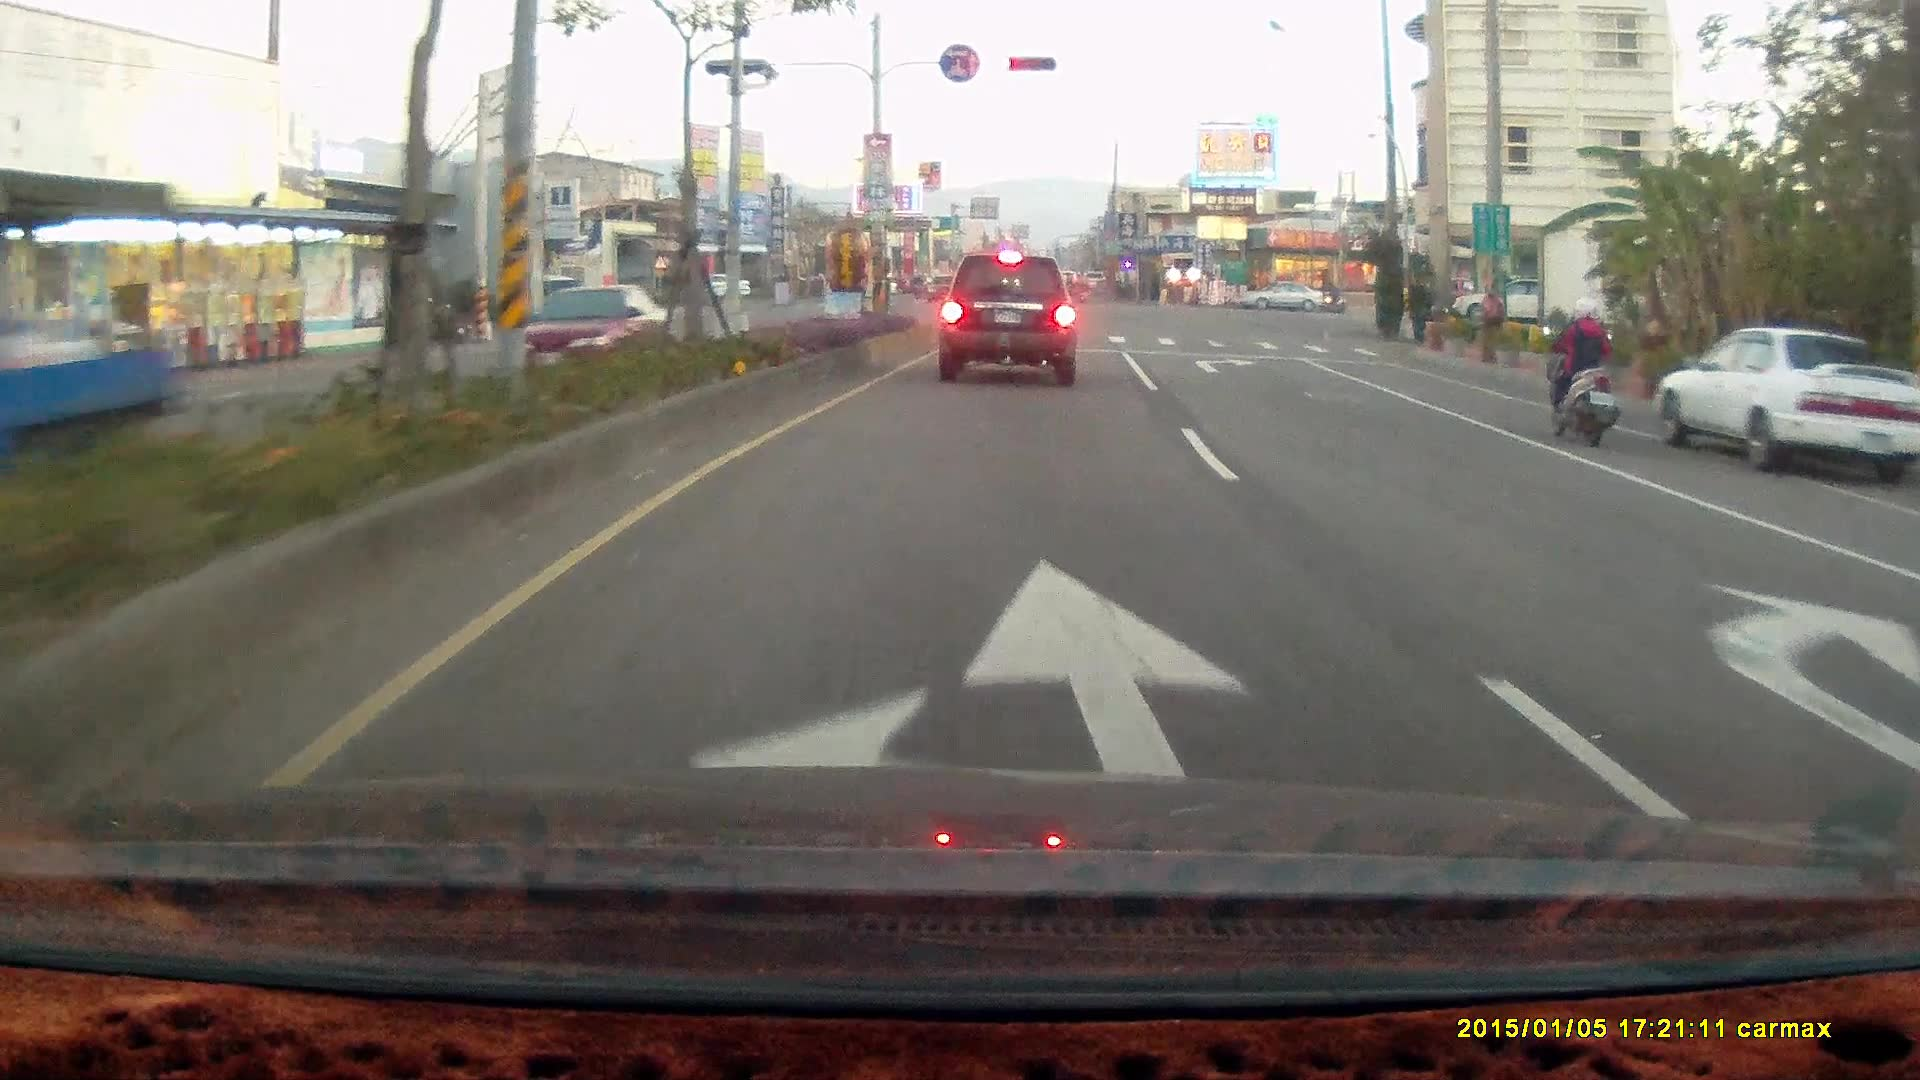rider: (1539, 294, 1621, 447), (1318, 277, 1347, 312)
vehicle: (1649, 325, 1919, 484), (1649, 326, 1920, 480), (936, 251, 1078, 387), (1896, 493, 1920, 836), (1451, 274, 1568, 327), (1883, 528, 1920, 690), (1233, 279, 1329, 316), (1234, 279, 1324, 312)
